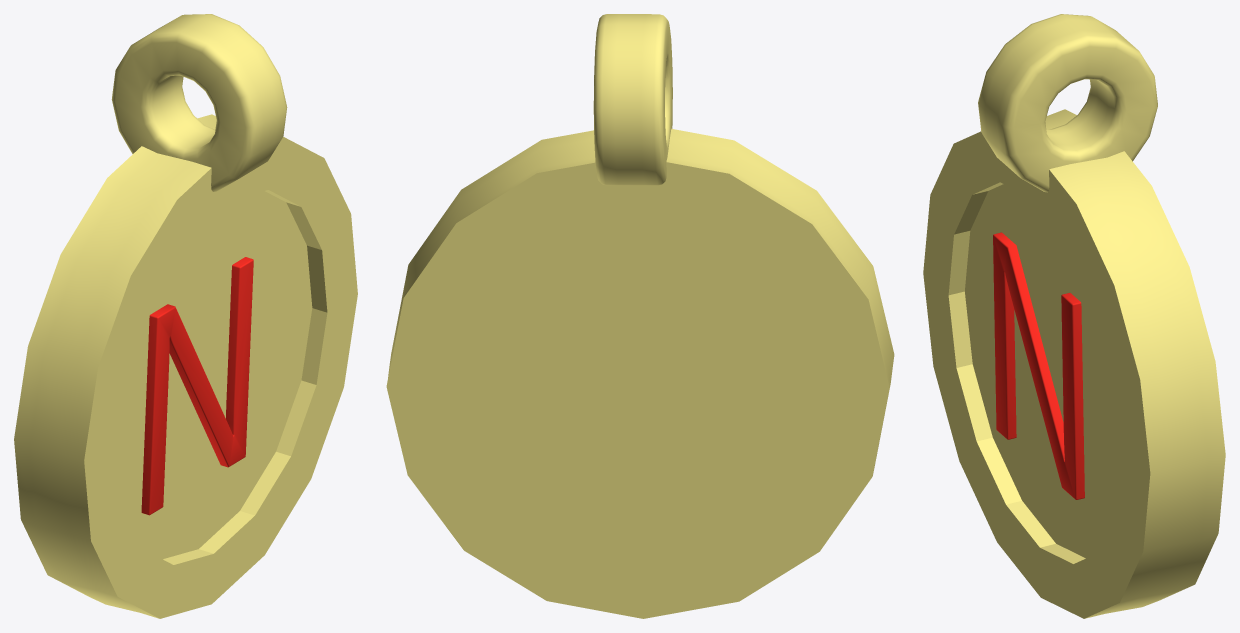
3 renders of one model, left to right at view 1: azimuth 30°, elevation 25°; view 2: azimuth 150°, elevation 25°; view 3: azimuth 270°, elevation 25°, orthographic.
Parts seen in each view (by area): view 1: Cylinder.004, Tube.004, N_2.004; view 2: Cylinder.004, Tube.004; view 3: Cylinder.004, Tube.004, N_2.004.
Boxes of the visible parts, <box> form: Cylinder.004: <box>14,114,357,618</box>; Tube.004: <box>111,14,287,191</box>; N_2.004: <box>141,257,253,515</box>; Cylinder.004: <box>386,128,894,618</box>; Tube.004: <box>593,14,672,185</box>; Cylinder.004: <box>923,109,1225,618</box>; Tube.004: <box>978,14,1157,192</box>; N_2.004: <box>993,232,1084,499</box>.
Bounding box in the file's own units: 16.88 × 10.48 × 21.94.
